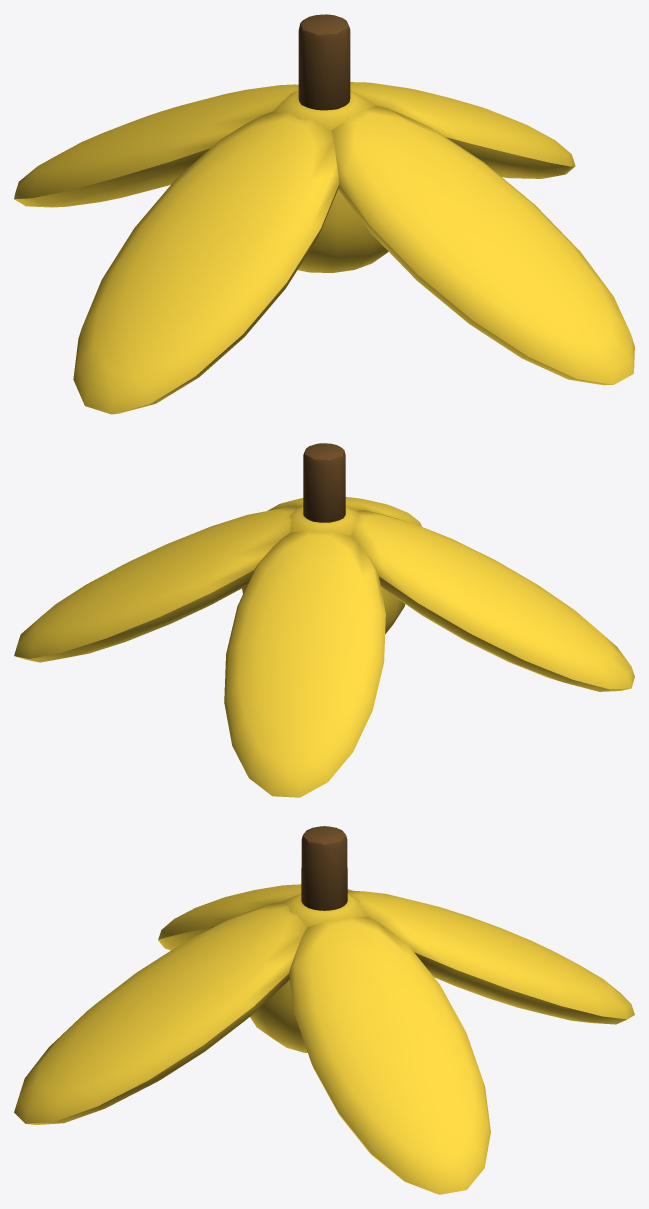
File: bl_banana.glb
3 views of the same model, one above another, from view 1: azimuth 30°, elevation 25°; view 2: azimuth 150°, elevation 25°; view 3: azimuth 270°, elevation 25° (orthographic). The views are drawn at different scales.
Parts seen in each view (by area): view 1: banana; view 2: banana; view 3: banana.
Part boxes in pixels (<box>): banana: <box>14,14,634,414</box>; banana: <box>14,443,634,797</box>; banana: <box>14,826,634,1194</box>.
Bounding box in the file's own units: 0.891 × 0.3705 × 0.891.
